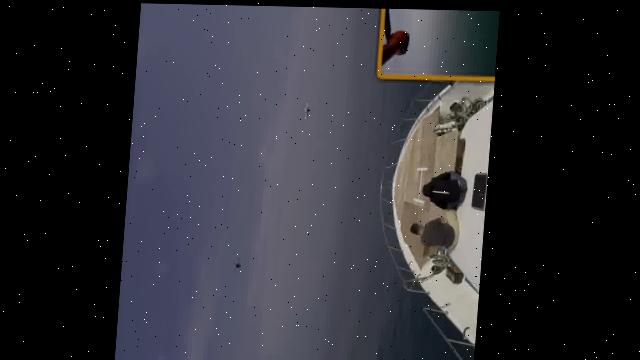drone: (296, 93, 316, 126), (231, 253, 250, 274)
